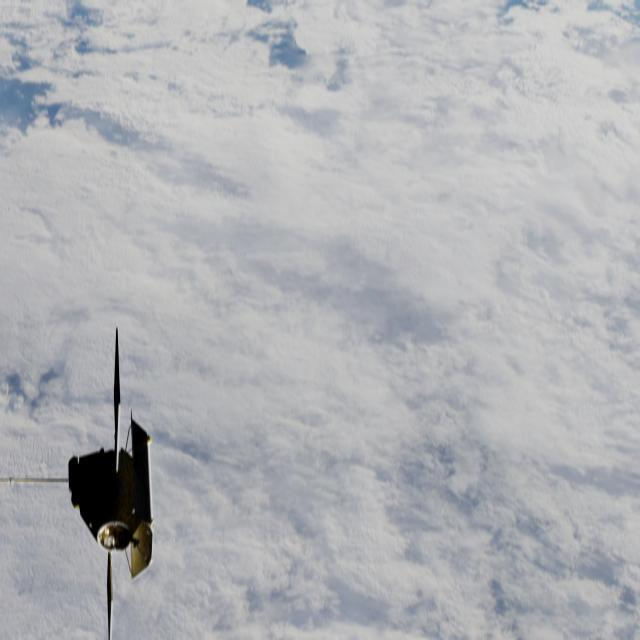satellite: (34, 309, 172, 640)
